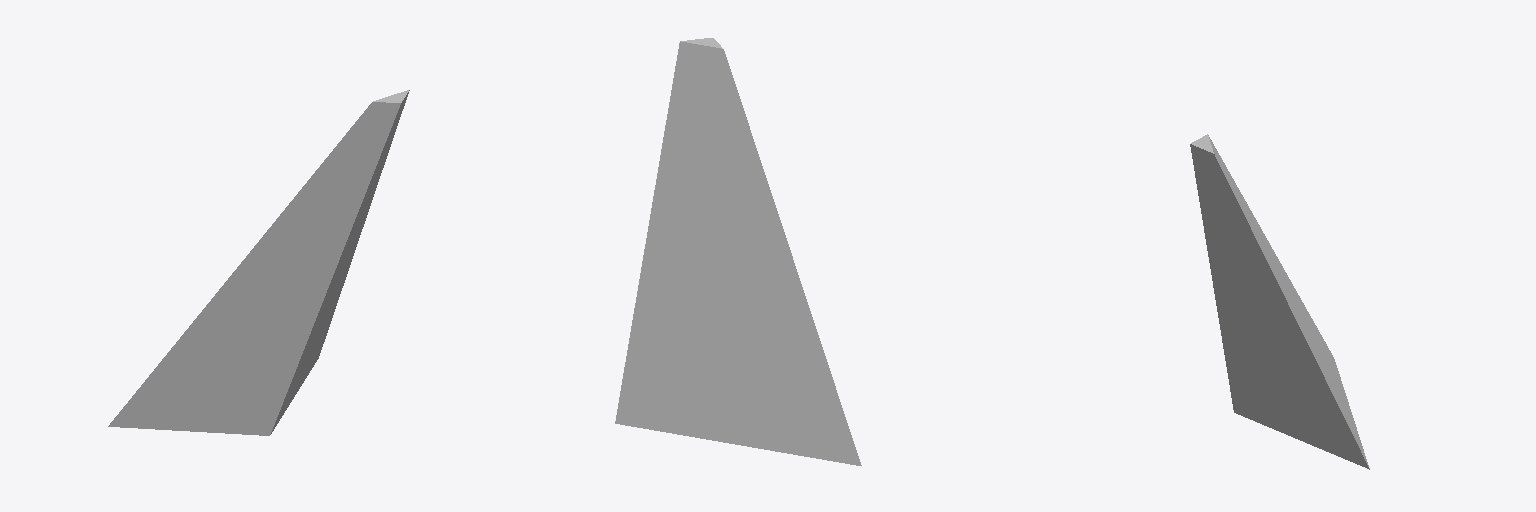
File: CubeShatter06.obj
The picture shows the model from 3 angles: view 1: azimuth 30°, elevation 25°; view 2: azimuth 150°, elevation 25°; view 3: azimuth 270°, elevation 25°; orthographic projection.
Parts seen in each view (by area): view 1: CubeShatter06; view 2: CubeShatter06; view 3: CubeShatter06.
Part boxes in pixels (x1,y1,x2,y2): CubeShatter06: (108,90,409,435); CubeShatter06: (615,38,861,465); CubeShatter06: (1190,134,1369,469).
Bounding box in the file's own units: 1.57 × 2 × 1.01.